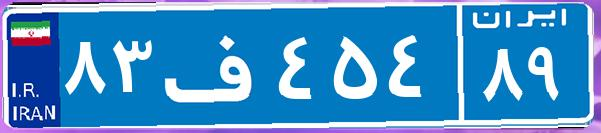3: (110, 28, 158, 105)
4: (385, 28, 445, 110), (273, 28, 330, 110)
5: (330, 28, 385, 110)
8: (57, 26, 110, 107), (475, 38, 525, 113)
9: (525, 38, 570, 115)
ف: (158, 15, 273, 115)
